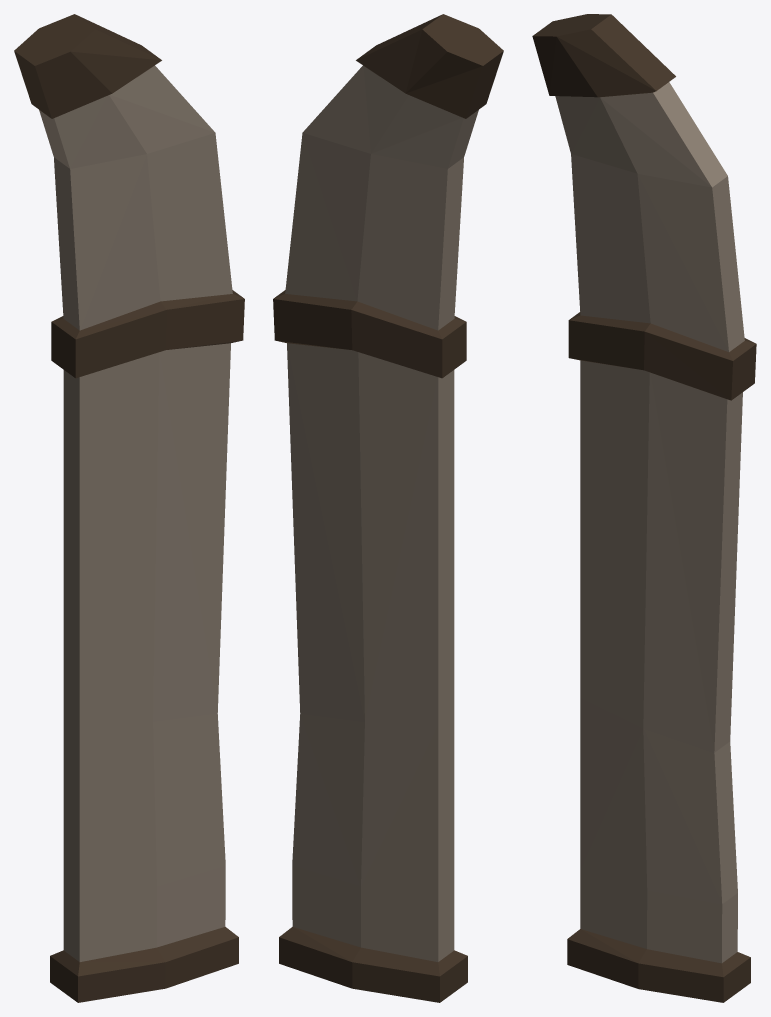
The model's file is SM_Wep_Cutlass_02_Sheath.glb.
The picture shows the model from 3 angles, left to right: view 1: azimuth 30°, elevation 25°; view 2: azimuth 150°, elevation 25°; view 3: azimuth 330°, elevation 25°; orthographic projection. The views are drawn at different scales.
Visible parts, largest first — view 1: SM_Wep_Cutlass_02_Sheath_00; view 2: SM_Wep_Cutlass_02_Sheath_00; view 3: SM_Wep_Cutlass_02_Sheath_00.
Part boxes in pixels (box(x1,y1,x2,y2)): SM_Wep_Cutlass_02_Sheath_00: box(14, 14, 244, 1002); SM_Wep_Cutlass_02_Sheath_00: box(273, 14, 503, 1002); SM_Wep_Cutlass_02_Sheath_00: box(532, 14, 756, 1002).
Size of the model in its own units: 0.1964 by 0.8723 by 0.0697.
1 material, 1 textured.
